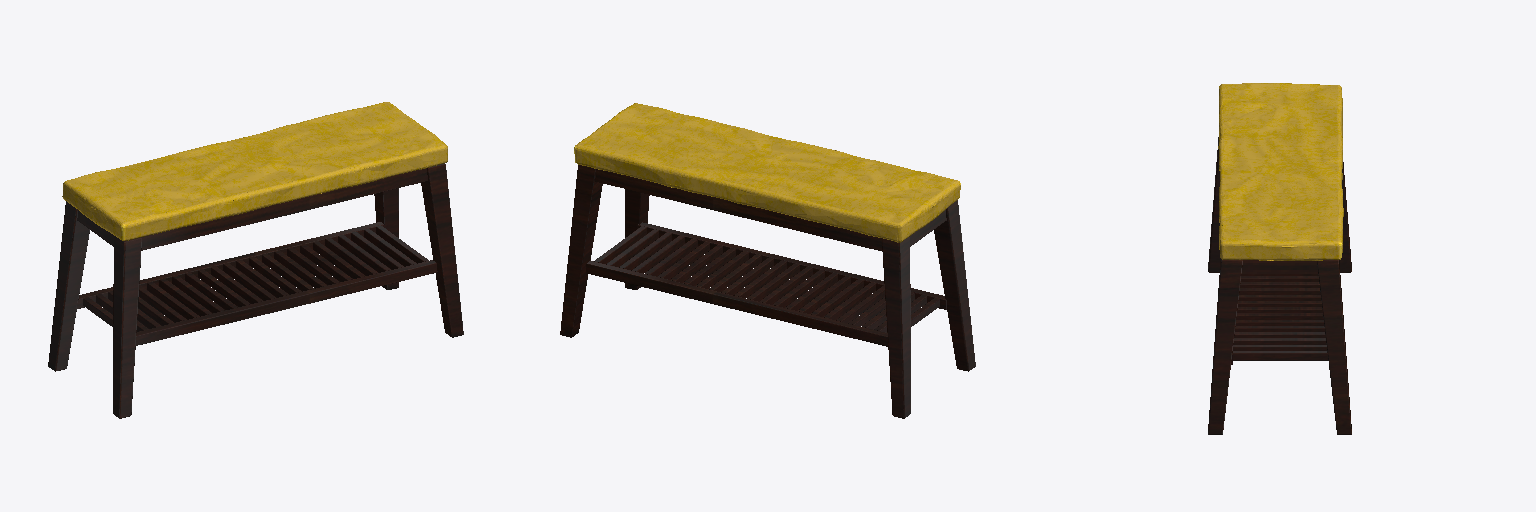
3 views of the same model, side by side, from view 1: azimuth 30°, elevation 25°; view 2: azimuth 150°, elevation 25°; view 3: azimuth 270°, elevation 25° (orthographic).
Visible parts, largest first — view 1: solid_001, solid_002; view 2: solid_001, solid_002; view 3: solid_002, solid_001.
Boxes of the visible parts, x1,y1,x2,y2 form: solid_001: [48, 163, 463, 418]; solid_002: [62, 102, 447, 240]; solid_001: [560, 165, 975, 418]; solid_002: [574, 103, 960, 242]; solid_002: [1218, 83, 1343, 260]; solid_001: [1208, 137, 1351, 434].
Size of the model in its own units: 1.95 by 1.03 by 0.7034.
Materials: 1 (1 with a texture image).